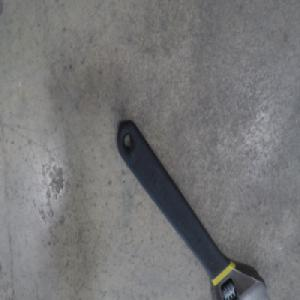AdjustableWrench: (115, 120, 270, 300)
